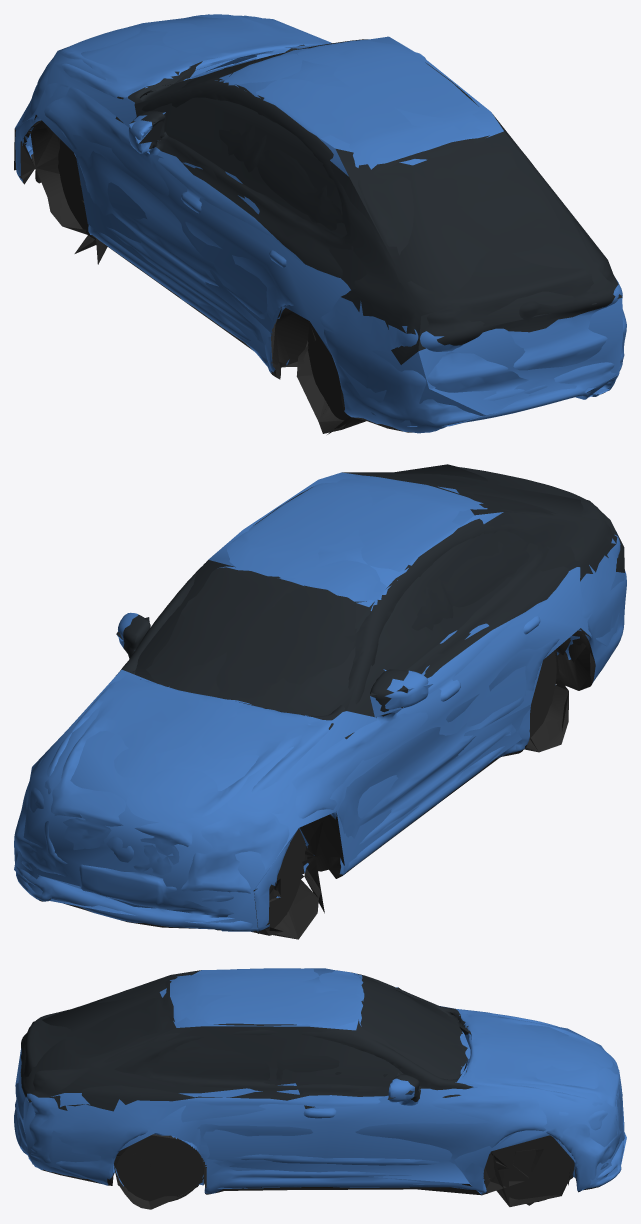
The model's file is kia-k900.glb.
The picture shows the model from 3 angles, top to bottom: view 1: azimuth 30°, elevation 25°; view 2: azimuth 150°, elevation 25°; view 3: azimuth 270°, elevation 25°; orthographic projection. The views are drawn at different scales.
Parts seen in each view (by area): view 1: body, far; view 2: body, far; view 3: body, far.
Boxes of the visible parts, box(x1,y1,x2,y2) form: body: box(15, 14, 626, 433); far: box(14, 16, 623, 434); body: box(14, 466, 626, 939); far: box(14, 464, 624, 933); body: box(14, 968, 624, 1209); far: box(15, 968, 626, 1205).
Size of the model in its own units: 2.14 by 1.77 by 5.2.
